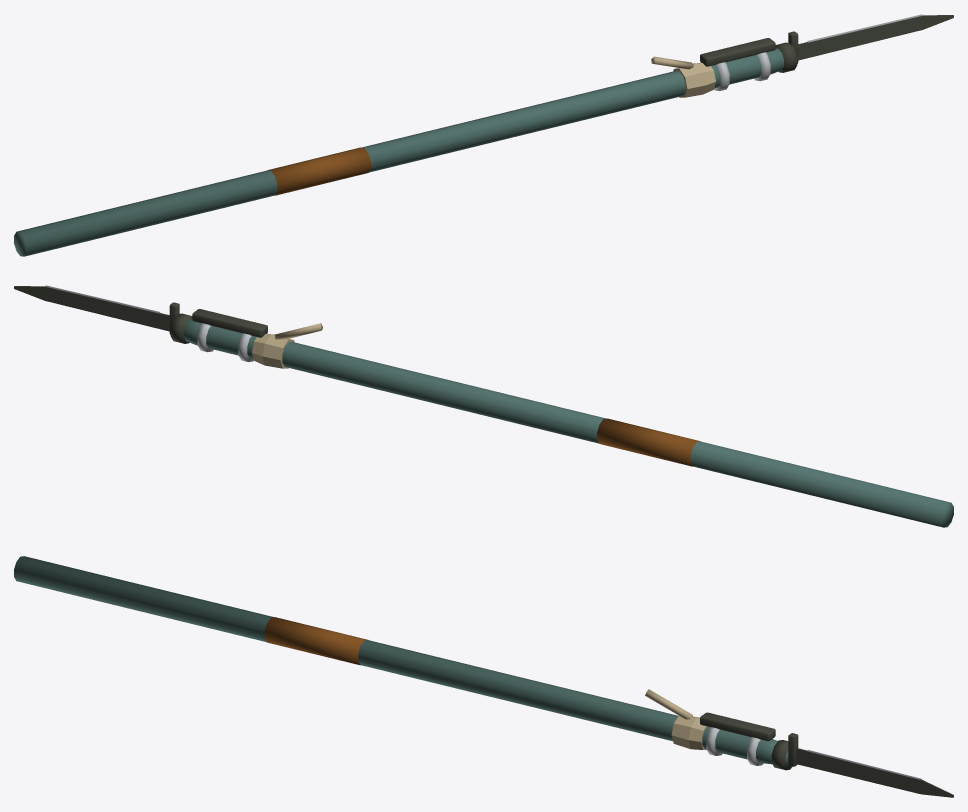
The model's file is item_broom_bayonet.glb.
The picture shows the model from 3 angles, top to bottom: view 1: azimuth 30°, elevation 25°; view 2: azimuth 150°, elevation 25°; view 3: azimuth 330°, elevation 25°; orthographic projection.
Parts seen in each view (by area): view 1: handle, worn, blade, grip, rag; view 2: handle, worn, blade, grip, rag; view 3: handle, worn, blade, grip, rag.
Boxes of the visible parts, x1,y1,x2,y2 form: handle: (14, 48, 783, 256); worn: (267, 147, 370, 195); blade: (798, 15, 953, 60); grip: (700, 38, 775, 66); rag: (673, 63, 715, 97); handle: (184, 319, 953, 527); worn: (597, 418, 700, 466); blade: (14, 286, 169, 331); grip: (192, 309, 267, 337); rag: (252, 334, 294, 368); handle: (14, 556, 788, 765); worn: (264, 617, 367, 665); blade: (795, 748, 953, 797); grip: (700, 712, 775, 741); rag: (671, 716, 706, 750).
Size of the model in its own units: 1.6 by 0.0839 by 0.0513.
